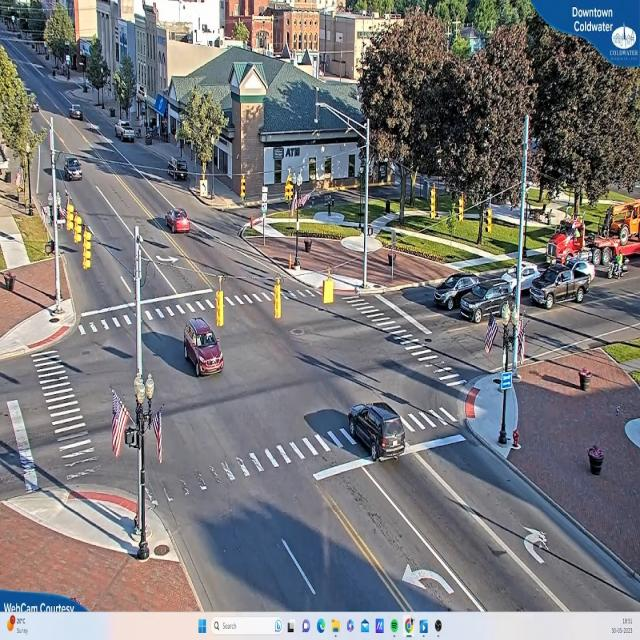car: (345, 397, 410, 472), (528, 257, 594, 309), (460, 276, 512, 327), (185, 317, 225, 375), (433, 275, 469, 309), (507, 255, 540, 292), (166, 207, 190, 235), (64, 158, 82, 179), (117, 125, 137, 143)
